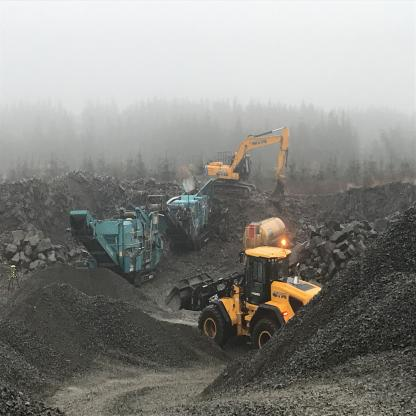bull_dozer/loader/grader: (169, 244, 332, 364)
excavator: (207, 126, 296, 208)
